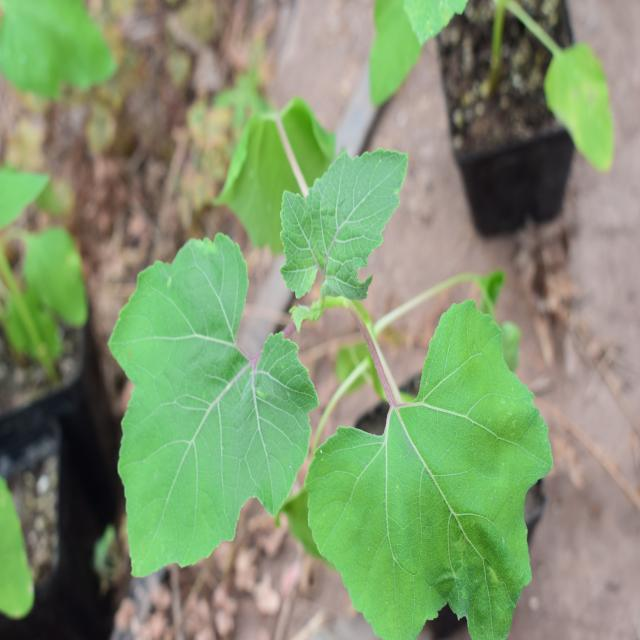cocklebur: (66, 101, 540, 616)
